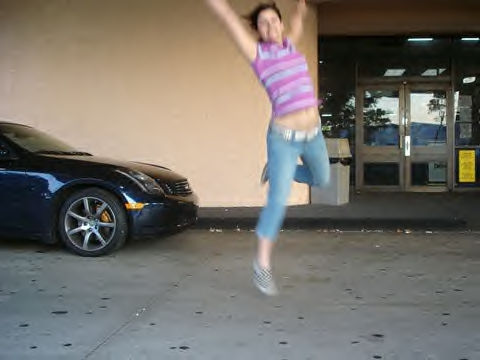person: (204, 1, 331, 298)
